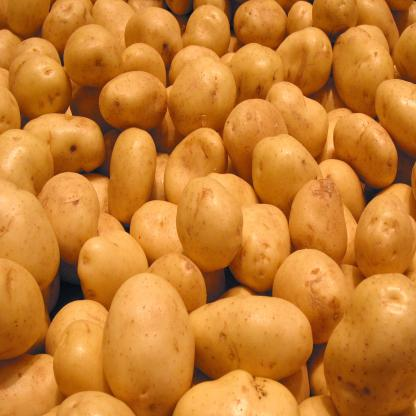--: (103, 265, 199, 416), (176, 174, 241, 274), (253, 133, 329, 214), (168, 57, 240, 136), (106, 124, 154, 224), (100, 70, 171, 134)
